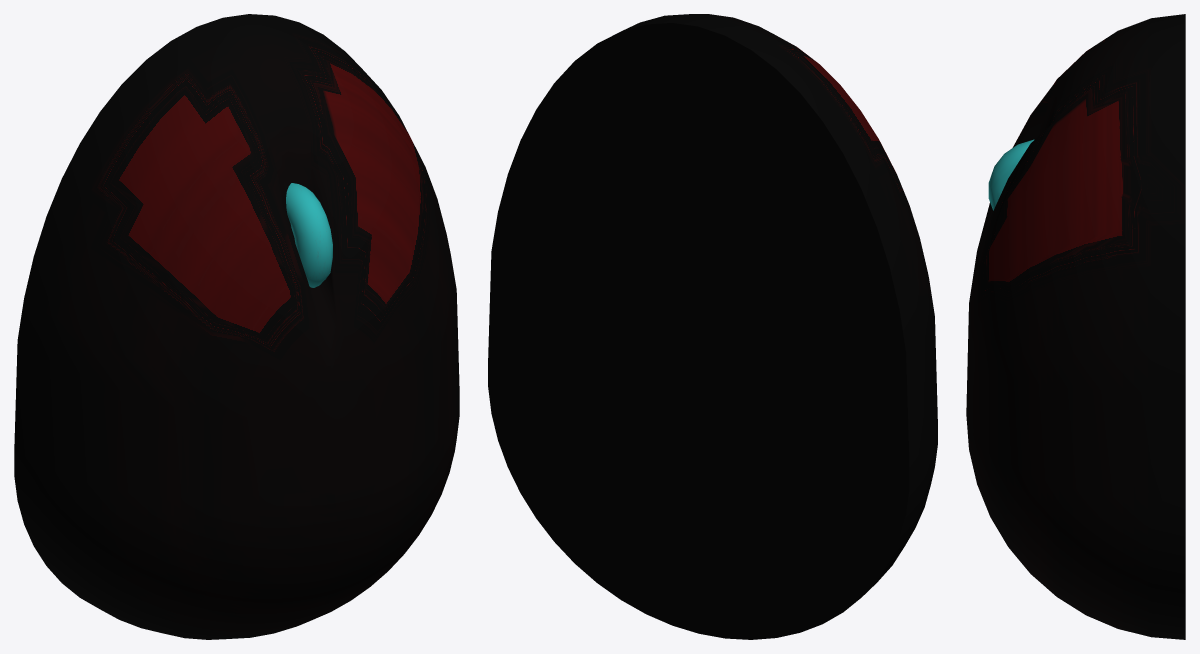
File: mouse.fbx
3 views of the same model, side by side, from view 1: azimuth 30°, elevation 25°; view 2: azimuth 150°, elevation 25°; view 3: azimuth 270°, elevation 25° (orthographic). The views are drawn at different scales.
Parts seen in each view (by area): view 1: pTorus4; view 2: pTorus4; view 3: pTorus4.
Boxes of the visible parts, x1,y1,x2,y2 form: pTorus4: [14, 14, 459, 639]; pTorus4: [488, 14, 937, 639]; pTorus4: [966, 14, 1185, 639].
Bounding box in the file's own units: 0.3808 × 0.5243 × 0.1771.
1 material, 1 textured.
